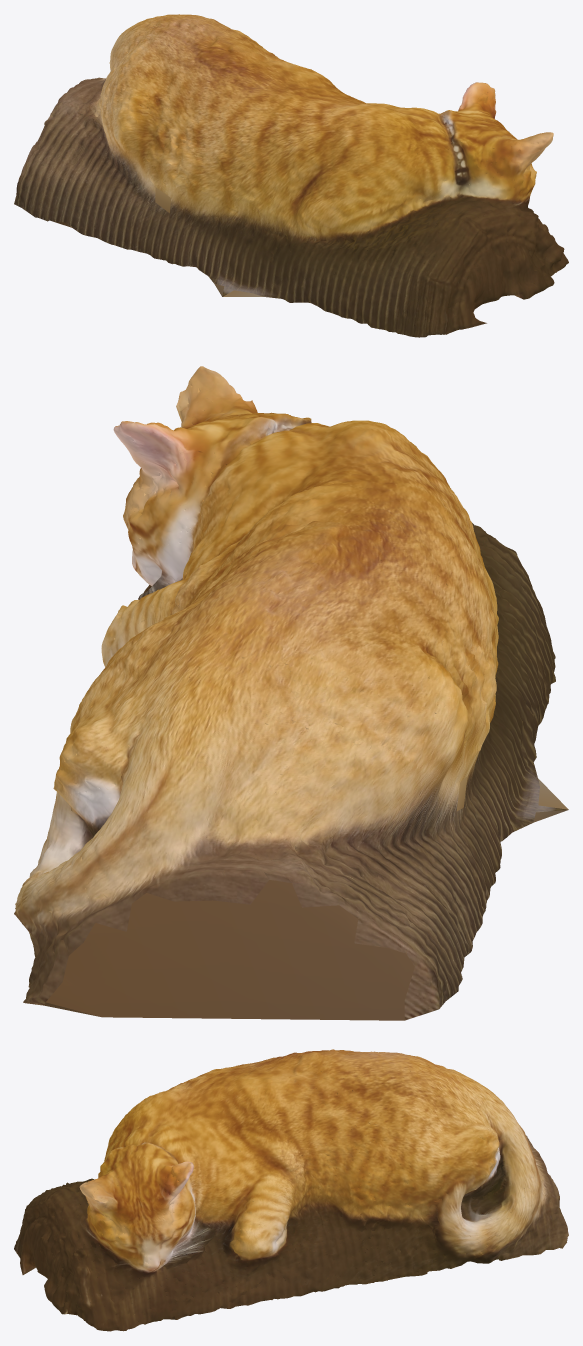
The model's file is cat.gltf.
The picture shows the model from 3 angles, top to bottom: view 1: azimuth 30°, elevation 25°; view 2: azimuth 150°, elevation 25°; view 3: azimuth 270°, elevation 25°; orthographic projection. The views are drawn at different scales.
Parts seen in each view (by area): view 1: Object_2, Object_3; view 2: Object_2, Object_3; view 3: Object_2, Object_3.
Boxes of the visible parts, x1,y1,x2,y2 form: Object_2: (14, 14, 568, 337); Object_3: (17, 14, 568, 337); Object_2: (14, 398, 568, 1020); Object_3: (14, 366, 568, 1020); Object_2: (16, 1049, 568, 1331); Object_3: (14, 1050, 564, 1331).
Bounding box in the file's own units: 18.15 × 8.98 × 25.45.
1 material, 1 textured.
